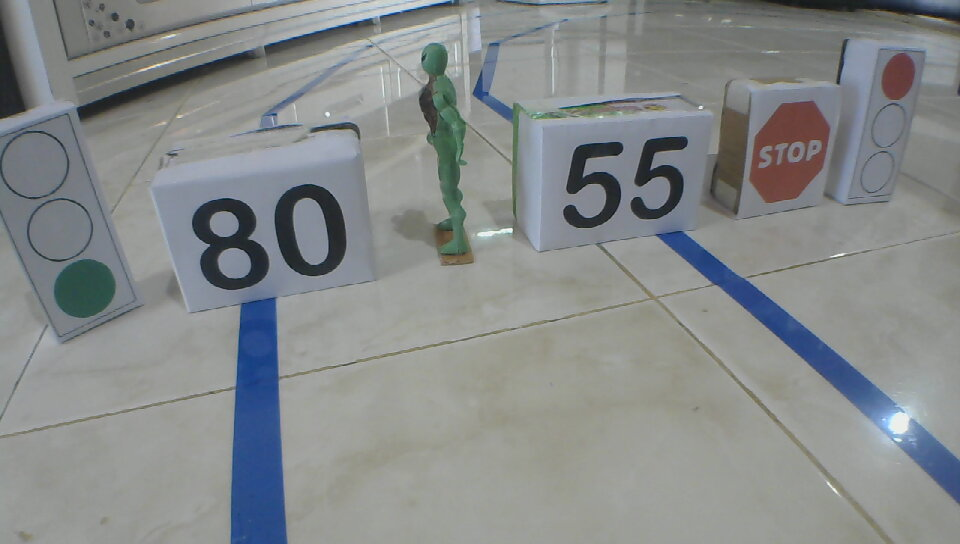Green Light: (1, 125, 121, 322)
Person: (414, 42, 473, 260)
Red Light: (857, 52, 917, 194)
Speed 55: (559, 136, 691, 232)
Speed 80: (188, 179, 349, 292)
Stop: (747, 100, 829, 205)
